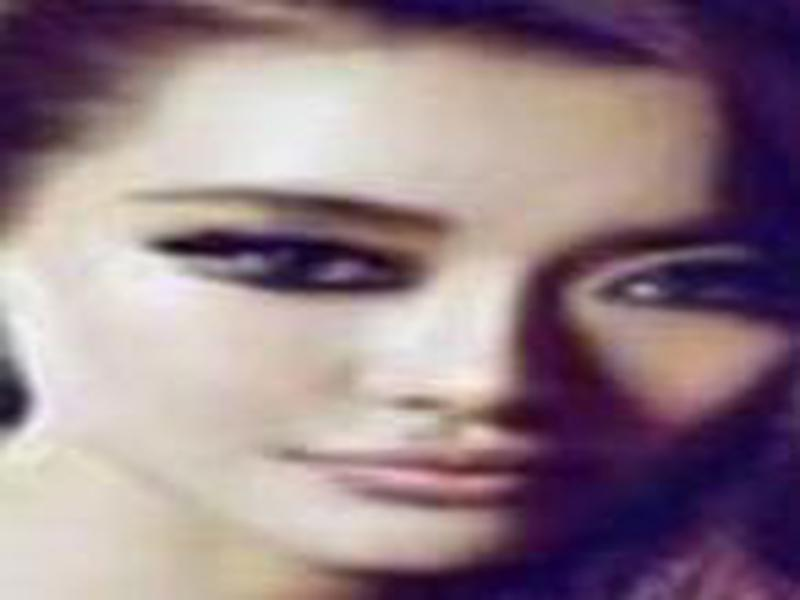without_mask: (20, 48, 787, 573)
